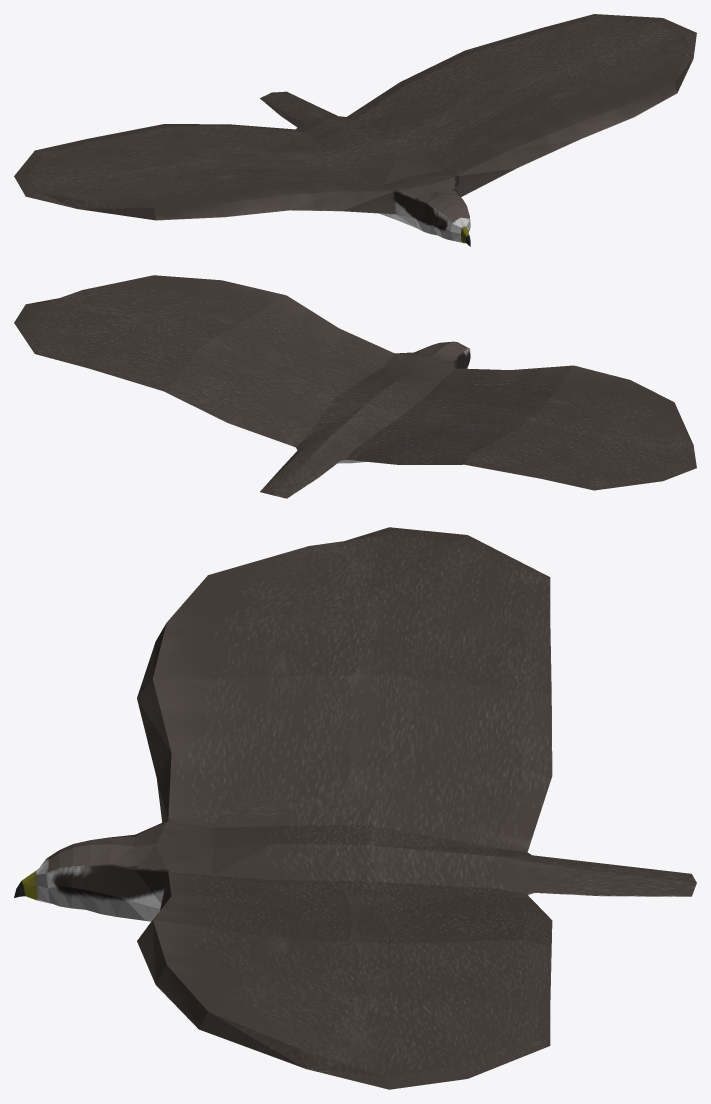
File: goshawk.fbx
3 views of the same model, one above another, from view 1: azimuth 30°, elevation 25°; view 2: azimuth 150°, elevation 25°; view 3: azimuth 270°, elevation 25° (orthographic). The views are drawn at different scales.
Parts seen in each view (by area): view 1: goshawk; view 2: goshawk; view 3: goshawk.
Boxes of the visible parts, x1=… form: goshawk: x1=14, y1=14, x2=696, y2=246; goshawk: x1=14, y1=275, x2=696, y2=498; goshawk: x1=14, y1=527, x2=696, y2=1089.
Bounding box in the file's own units: 98.17 × 11.5 × 50.38.
